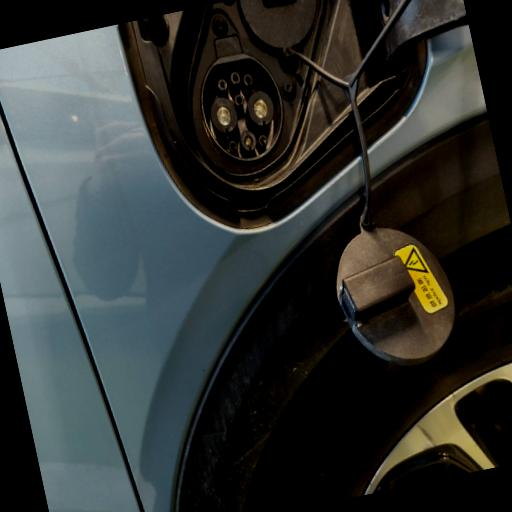DC_charging_port: (188, 46, 294, 170)
DC_hole: (243, 86, 278, 130), (206, 94, 241, 135)
PE: (238, 130, 258, 152)
